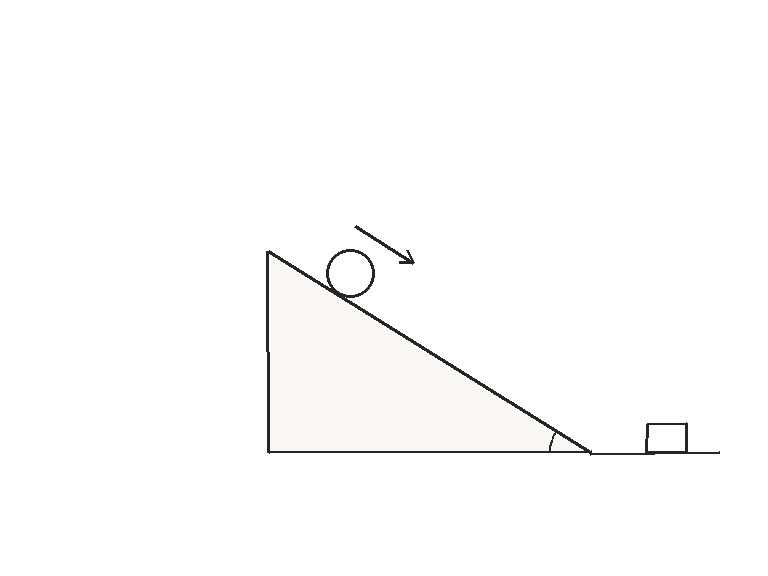ball: (324, 247, 376, 299)
block: (644, 421, 688, 454)
ramp: (266, 249, 592, 454)
